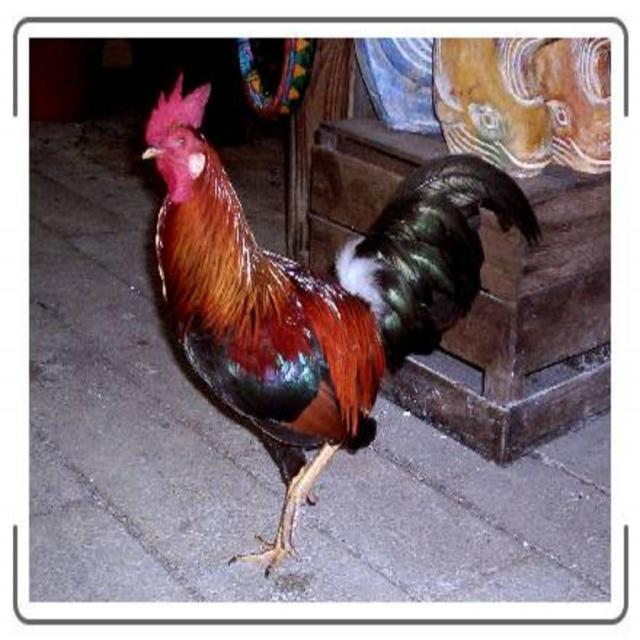Chicken: (142, 72, 544, 580)
